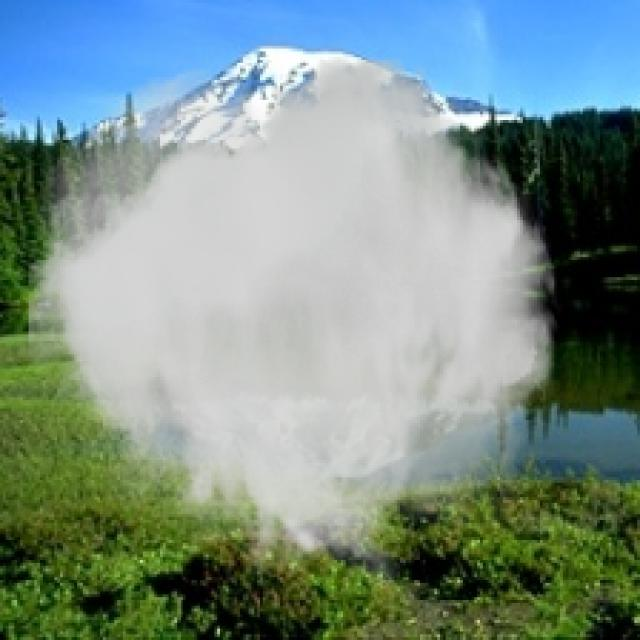smoke: (28, 57, 563, 592)
